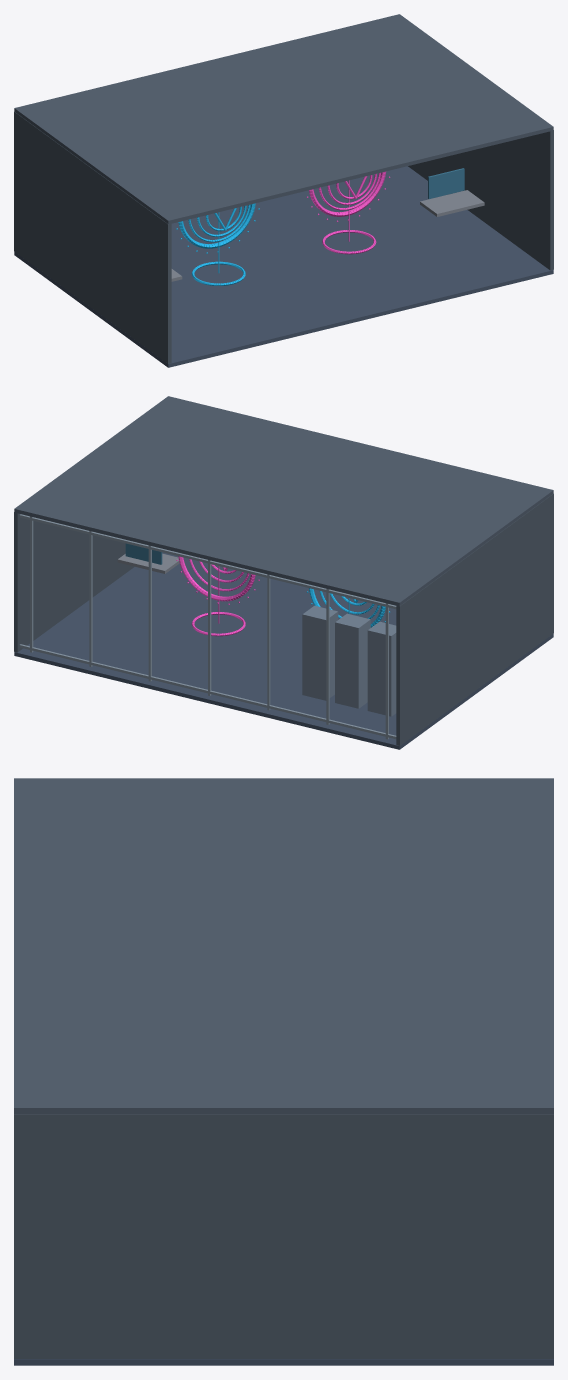
File: Laboratorio_Interior_3D.glb
The picture shows the model from 3 angles, top to bottom: view 1: azimuth 30°, elevation 25°; view 2: azimuth 150°, elevation 25°; view 3: azimuth 270°, elevation 25°; orthographic projection. The views are drawn at different scales.
Visible parts, largest first — view 1: techo, suelo_metalico, muro_lateral_-6.45, muro_lateral_6.45, estacion_5.1, consola_5.1; view 2: techo, suelo_metalico, muro_lateral_-6.45, muro_lateral_6.45, vitrina_armadura_1, vitrina_armadura_2, vitrina_armadura_0, ventanal_marco_inferior, ventanal_marco_superior, estacion_5.1, ventanal_marco_-6.0, ventanal_marco_2.0 (+6 smaller); view 3: techo, muro_lateral_6.45, suelo_metalico.
Boxes of the visible parts, x1=… form: techo: x1=14, y1=14, x2=553, y2=224; suelo_metalico: x1=14, y1=166, x2=553, y2=367; muro_lateral_-6.45: x1=14, y1=111, x2=171, y2=363; muro_lateral_6.45: x1=408, y1=130, x2=553, y2=270; estacion_5.1: x1=420, y1=190, x2=484, y2=216; consola_5.1: x1=428, y1=168, x2=464, y2=198; techo: x1=14, y1=396, x2=553, y2=606; suelo_metalico: x1=14, y1=552, x2=553, y2=749; muro_lateral_-6.45: x1=396, y1=493, x2=553, y2=745; muro_lateral_6.45: x1=14, y1=512, x2=134, y2=652; vitrina_armadura_1: x1=335, y1=613, x2=370, y2=708; vitrina_armadura_2: x1=302, y1=605, x2=338, y2=700; vitrina_armadura_0: x1=367, y1=621, x2=396, y2=716; ventanal_marco_inferior: x1=19, y1=644, x2=396, y2=739; ventanal_marco_superior: x1=19, y1=514, x2=396, y2=609; estacion_5.1: x1=117, y1=553, x2=179, y2=573; ventanal_marco_-6.0: x1=385, y1=603, x2=388, y2=739; ventanal_marco_2.0: x1=148, y1=545, x2=151, y2=681; techo: x1=14, y1=778, x2=553, y2=1113; muro_lateral_6.45: x1=14, y1=1114, x2=553, y2=1358; suelo_metalico: x1=14, y1=1359, x2=553, y2=1365.
Bounding box in the file's own units: 13.02 × 4.74 × 9.
